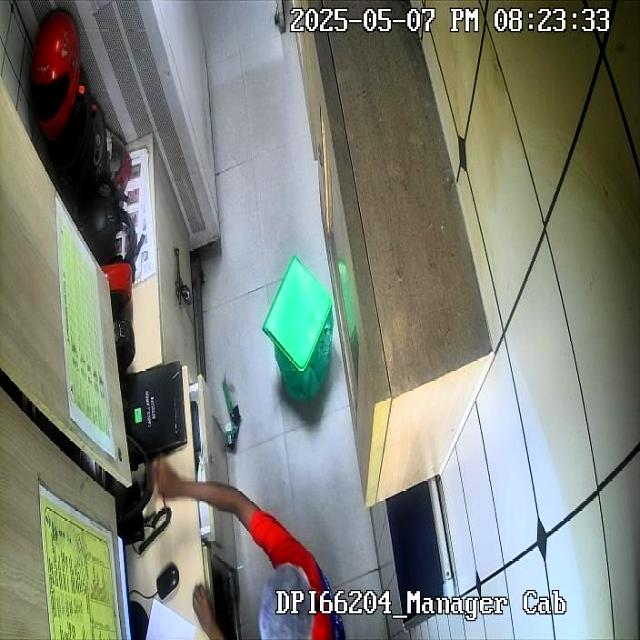helmet: (31, 11, 81, 141)
